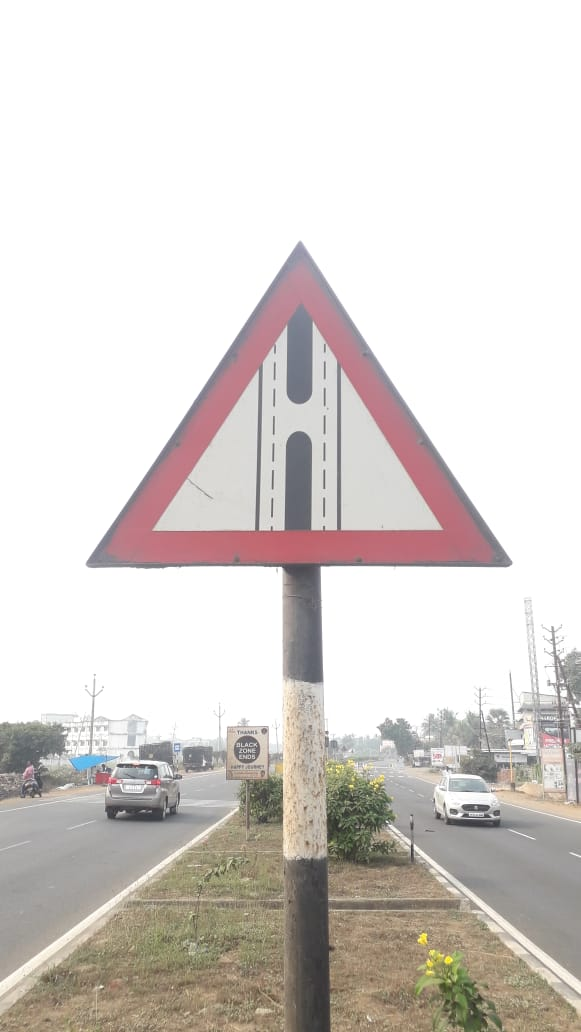highway go straight: (54, 224, 551, 621)
